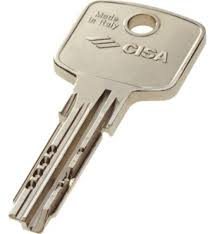kicharina: (6, 1, 206, 226)
